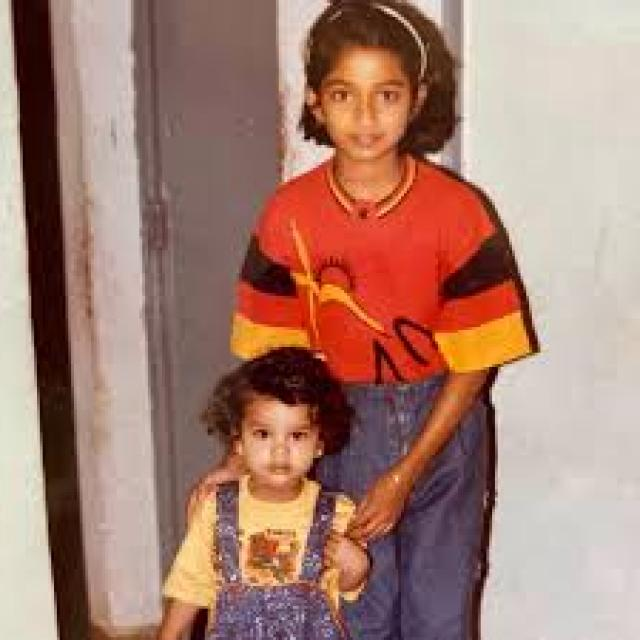child: (150, 3, 520, 640)
